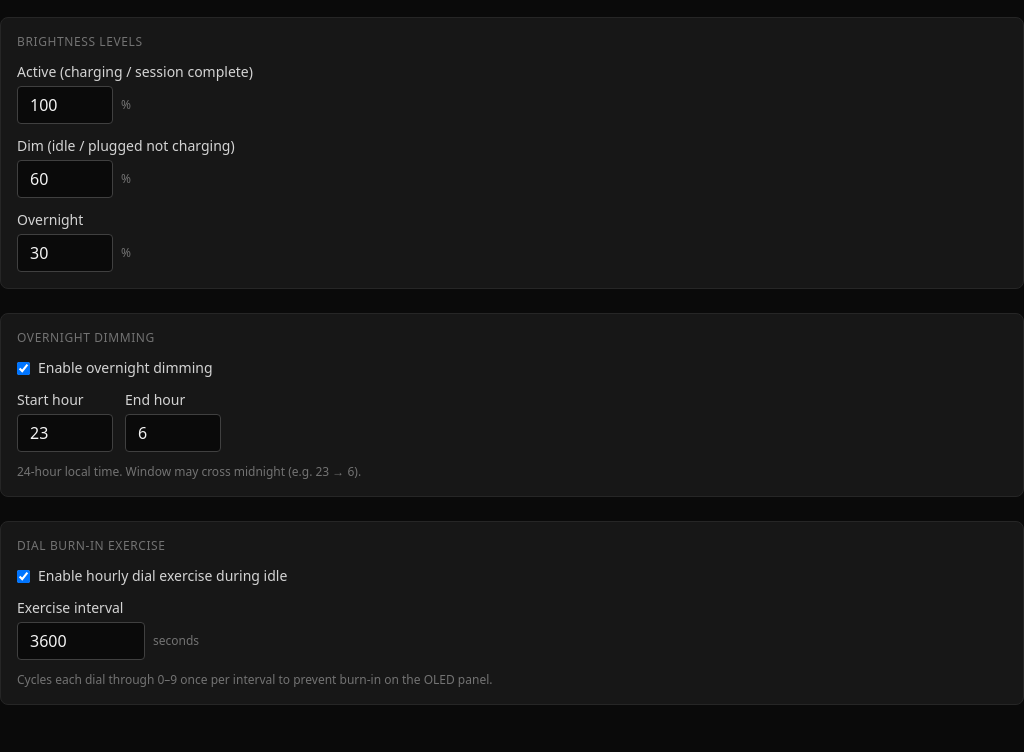
it: AdminSettings › toggling "Enable overnight dimming" off sets end hour to match start hour (disabled semantic)
(page scrolled)
Click the checkbox labelled "Enable overnight dimming".
click(24, 368)  # box 17,362 -> 30,374
(page scrolled)
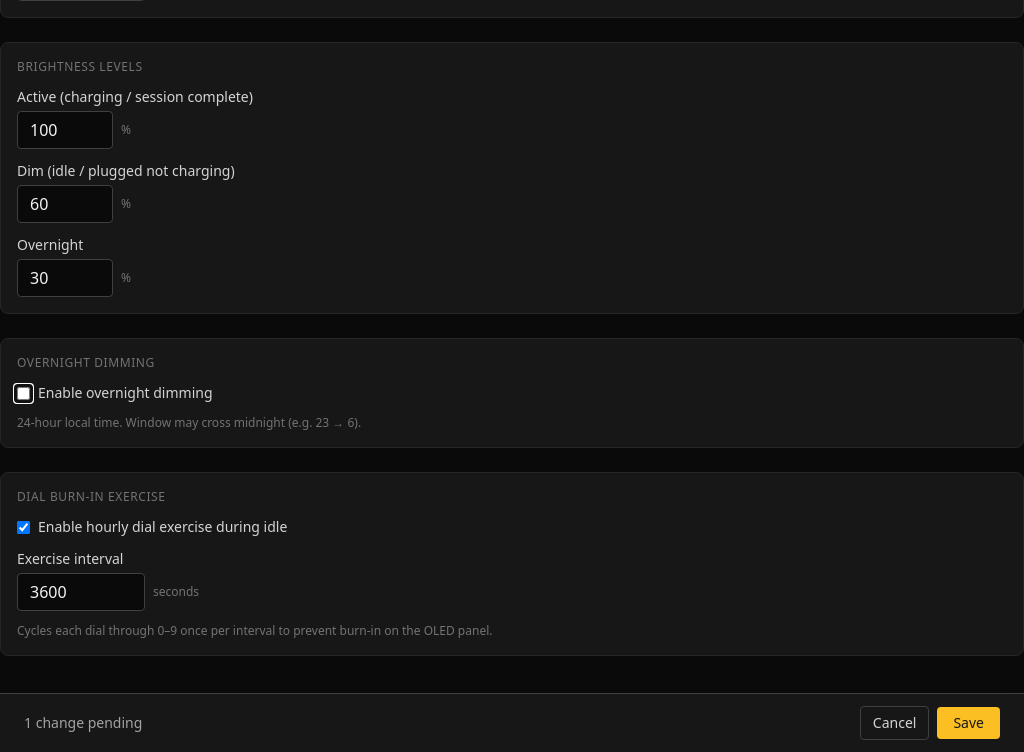
Result: the checkbox labelled "Enable overnight dimming" is not checked at 17,386 -> 30,400
Result: the text labelled "Start hour" is gone
